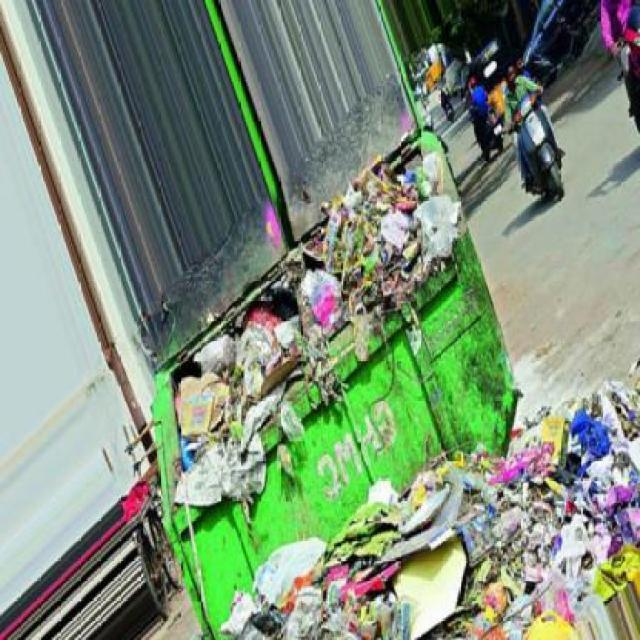garbage: (476, 426, 640, 639), (268, 174, 435, 357), (249, 509, 466, 634), (148, 322, 281, 505)
